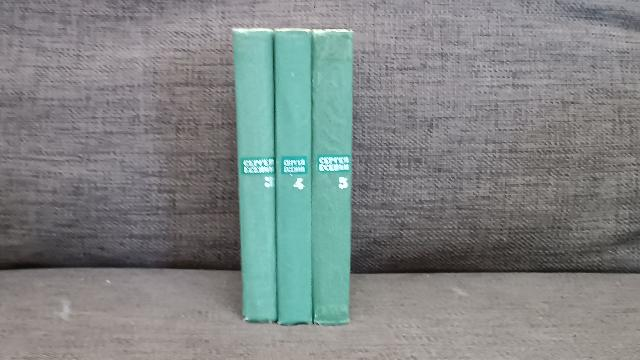book-s-spine: (234, 29, 277, 324), (311, 32, 353, 326), (274, 31, 312, 326)
